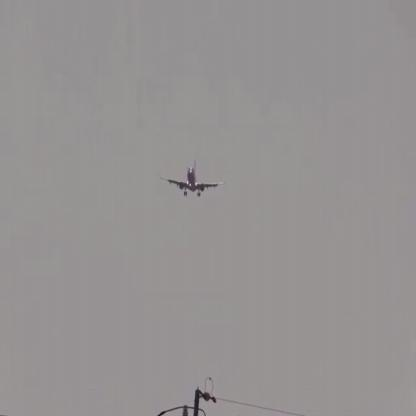CIV_Plane: (161, 160, 226, 198)
